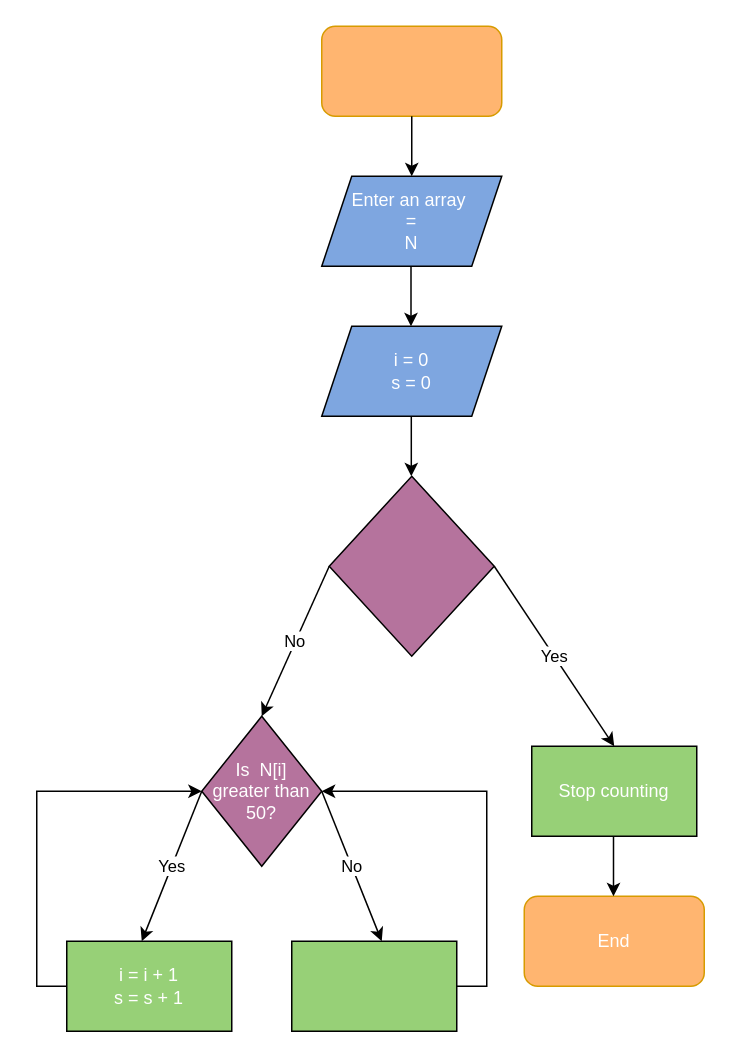
Some shapes in this 731 by 1058 pixel diagram are drawn without their labels. The centre of each missing label's shape, as x and y in pixels:
"i = i s = s" belongs at point (373, 985).
"Is i greater than length of N?" belongs at point (411, 565).
"Start" belongs at point (411, 70).
